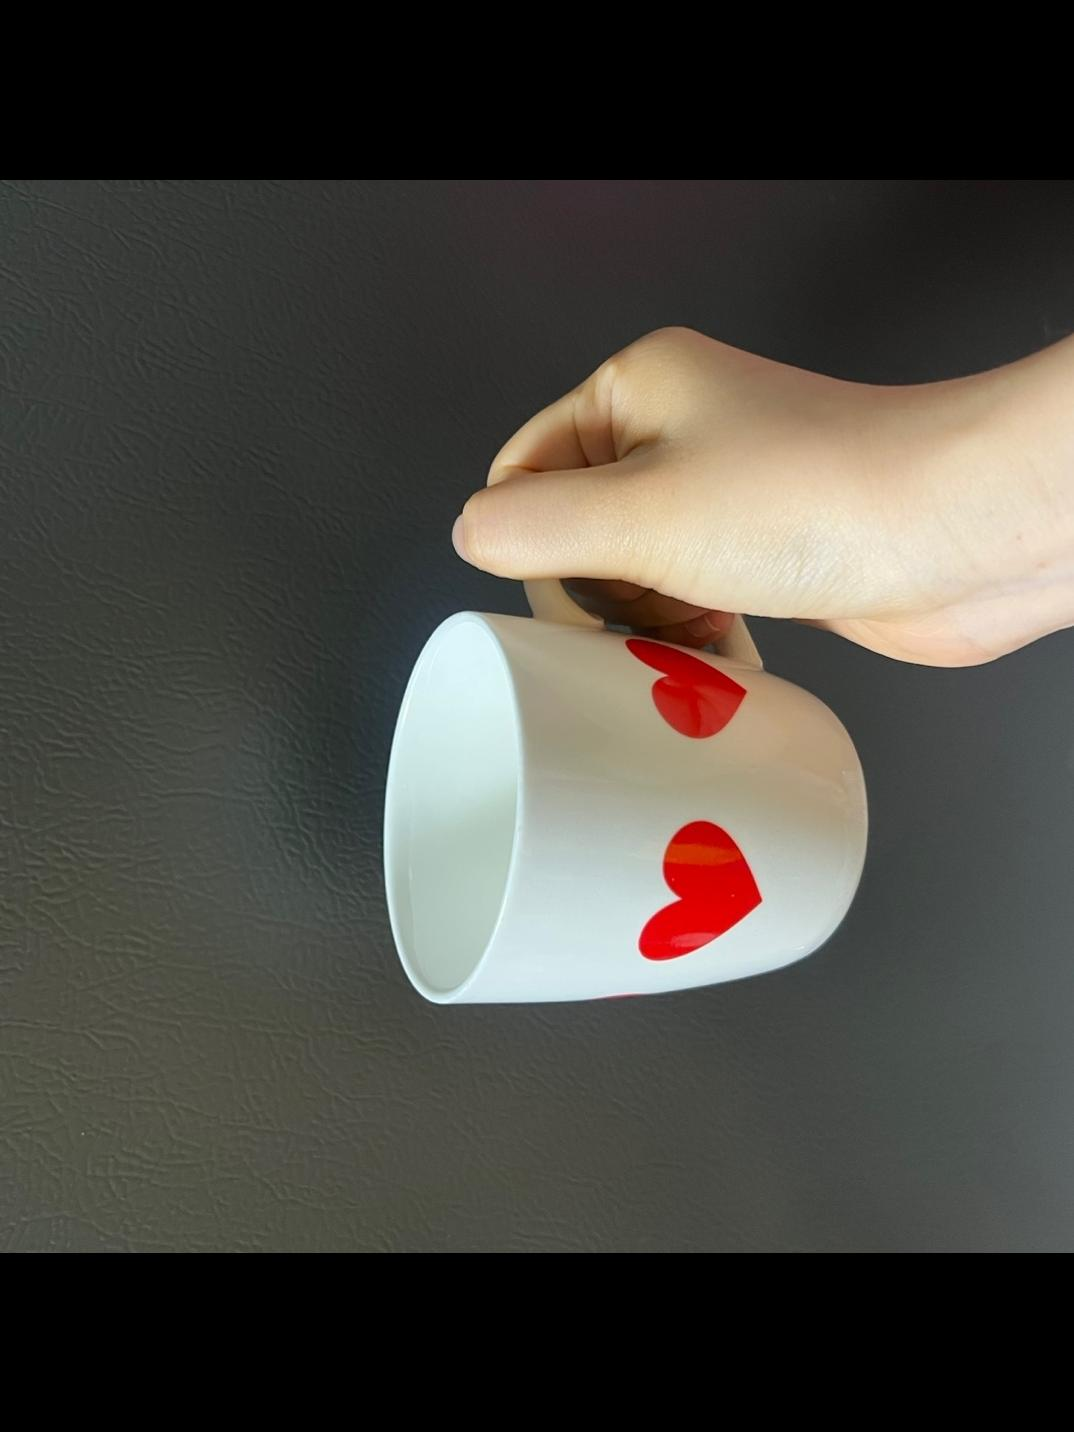cup: (377, 312, 1045, 1016)
